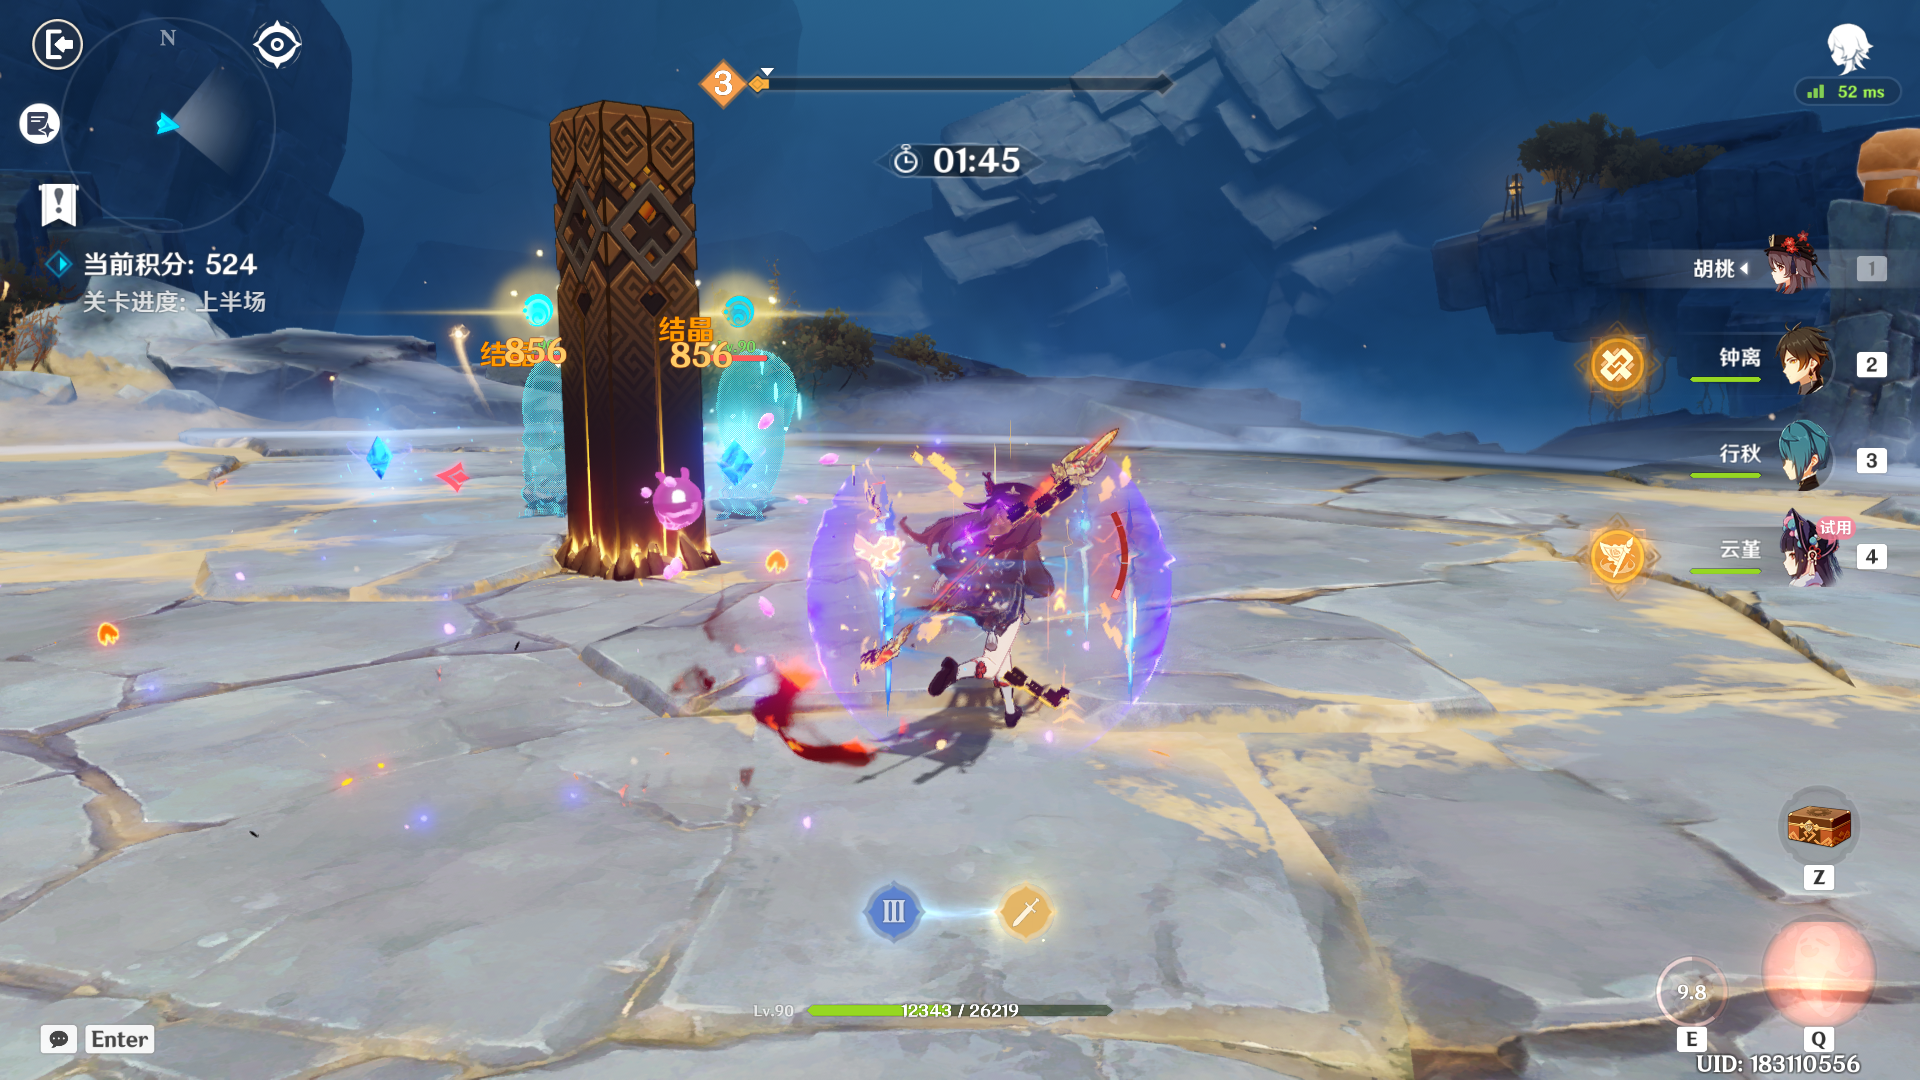character: (857, 419, 1170, 819)
